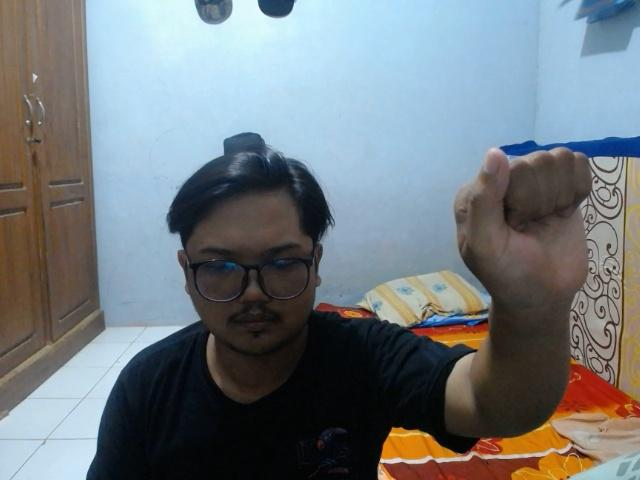Grab: (448, 139, 599, 316)
